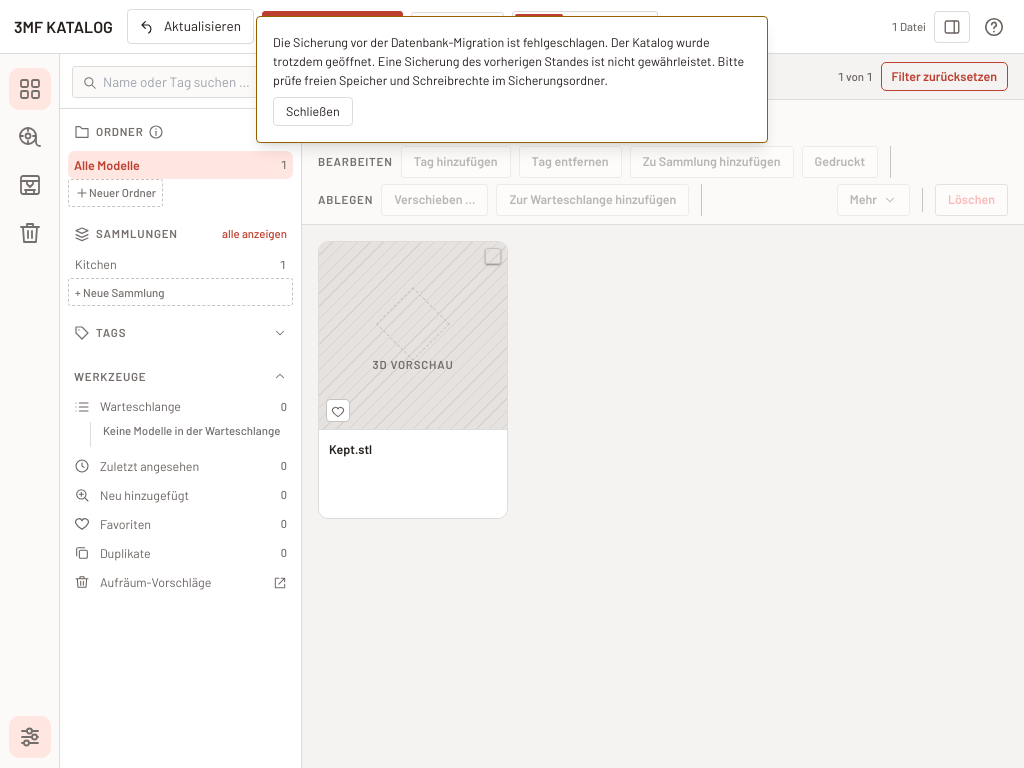
it: deletes through the sidebar hook, preserves models and retains gallery=false
Click the button "Kitchen 1".
click(96, 264)  # box [75,256,286,272]
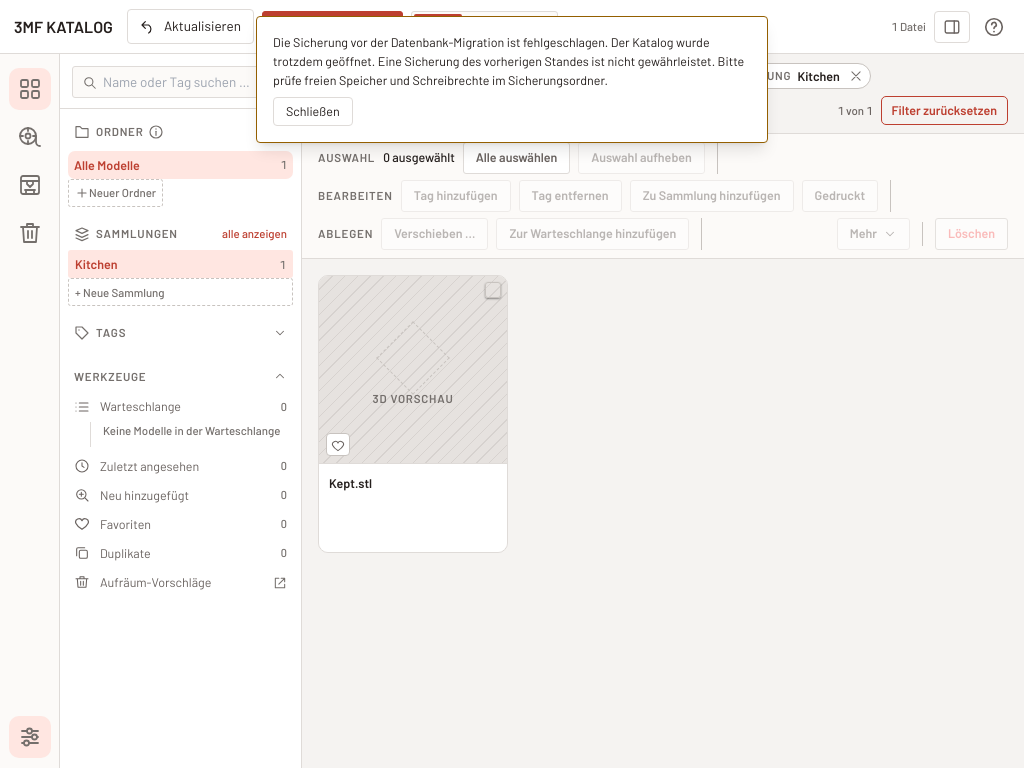
Right-click the button "Kitchen 1".
right_click(180, 264)  # box [68,250,293,278]
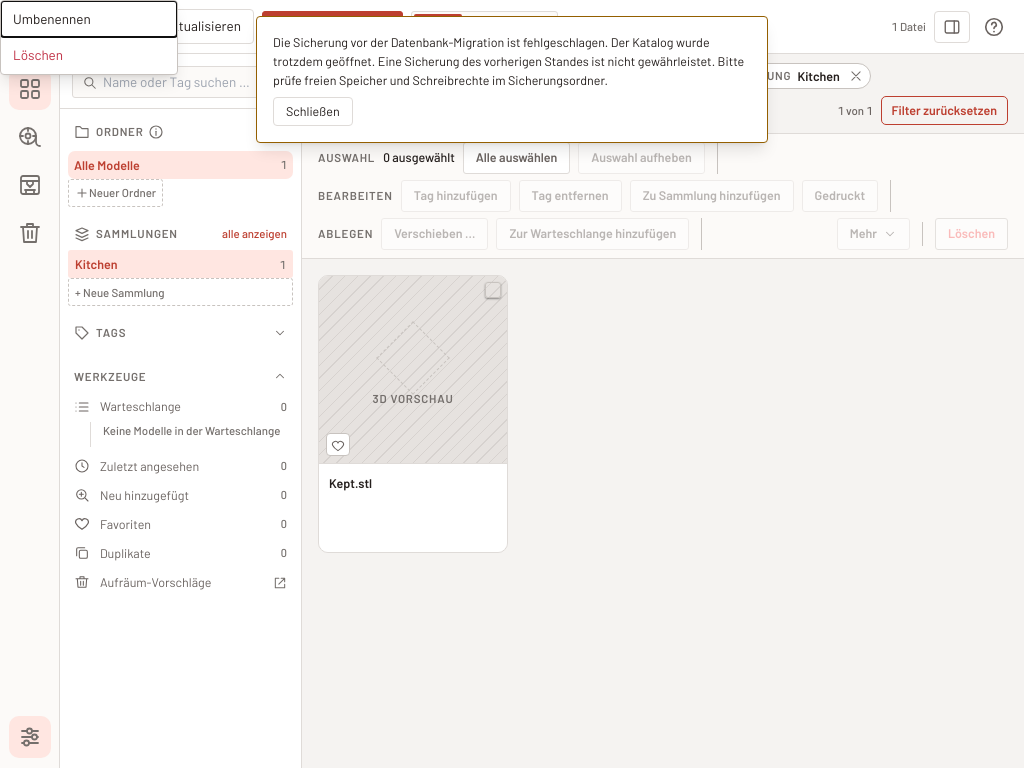
Click the 1st button "Löschen".
click(89, 55)  # box [1,37,177,74]
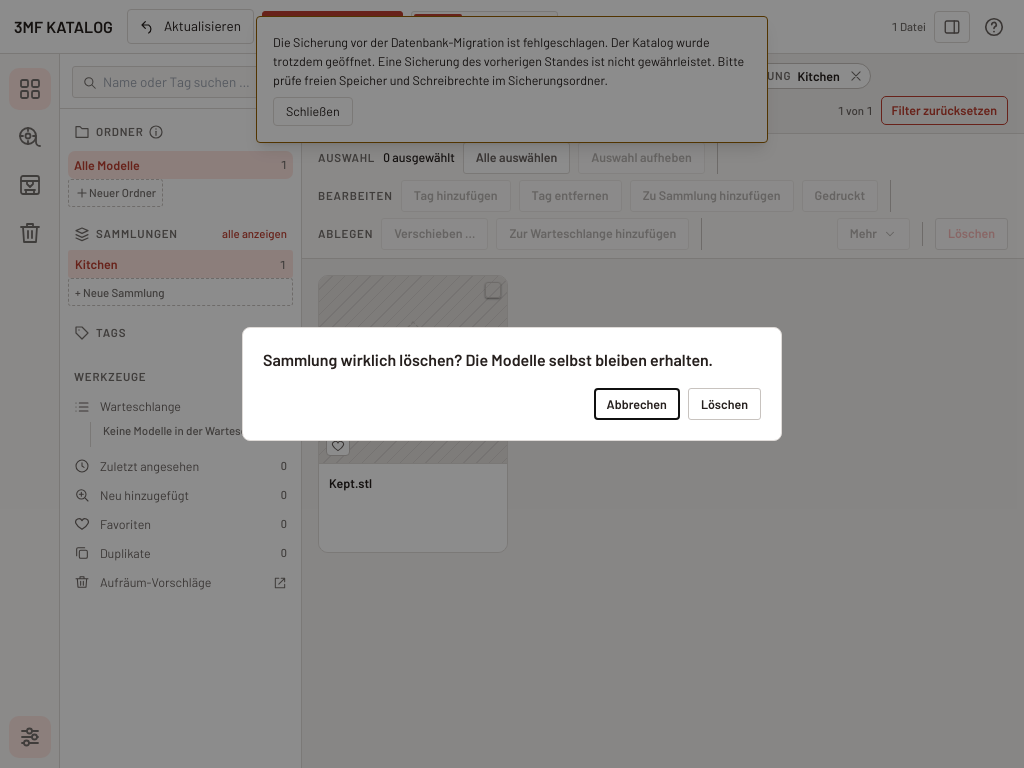
Click the button "Löschen".
click(724, 404)  # box [688,388,761,420]
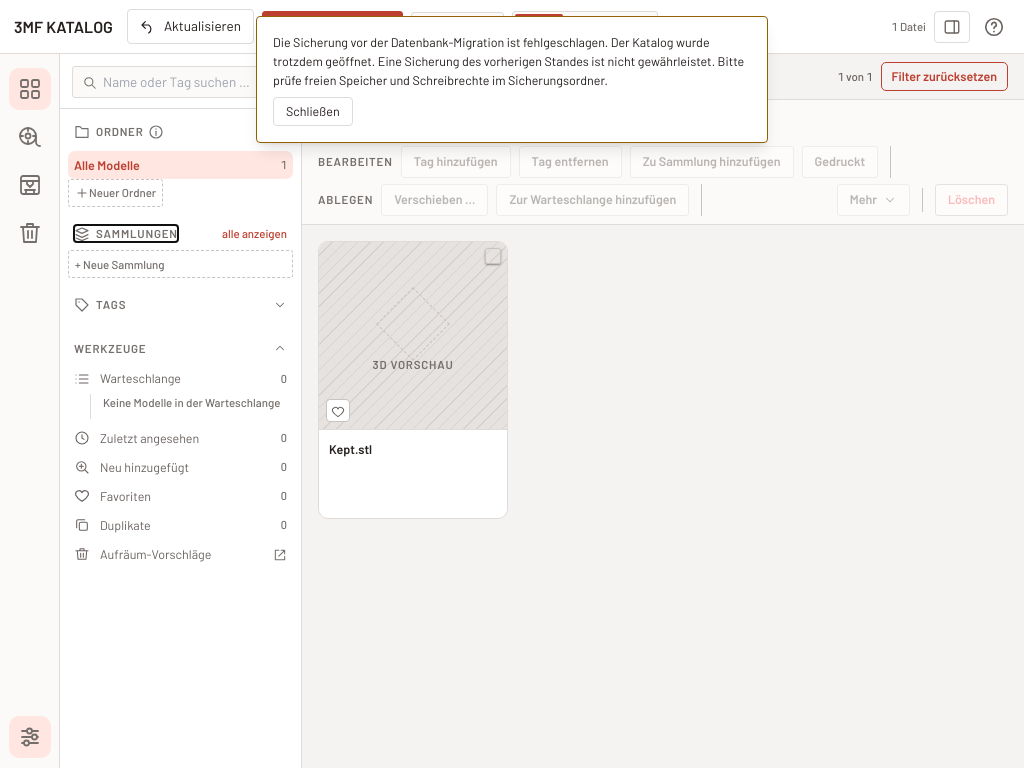
Expected: the element that starts with "Filter" shows "Kept.stl", [329,441,372,457]
Expected: the button "Kitchen" is gone
